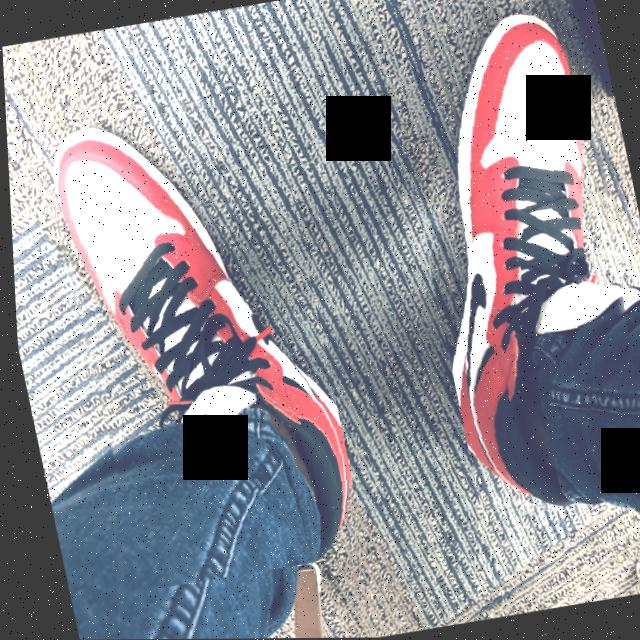shoe: (30, 91, 363, 594), (379, 0, 640, 525)
